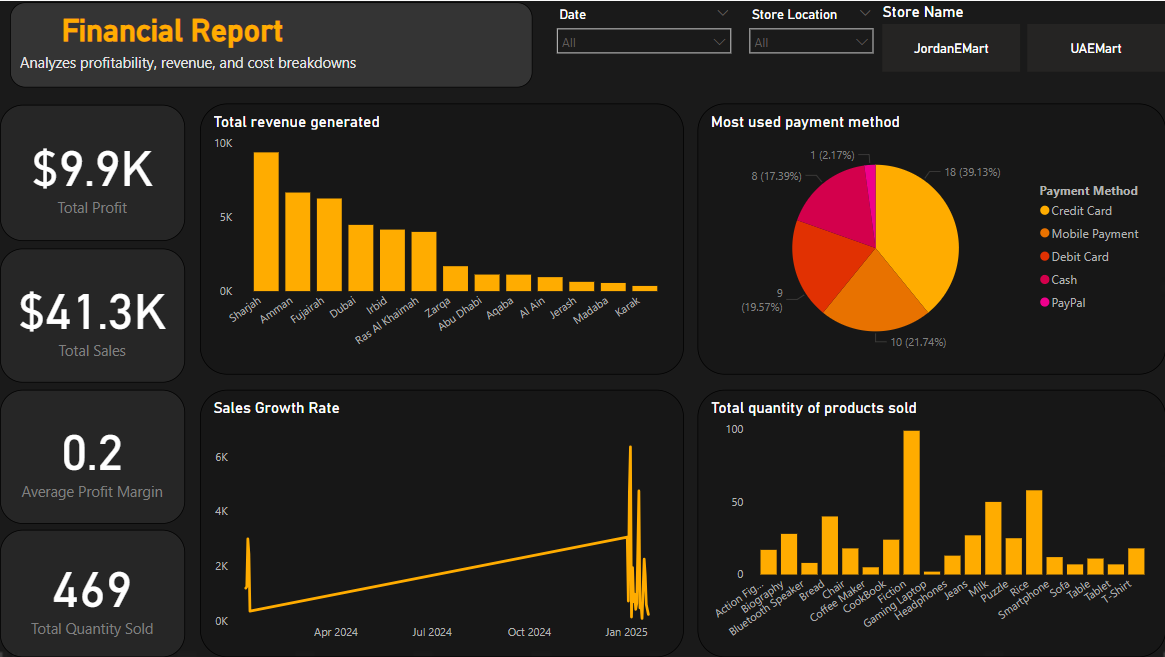

This screenshot's page, from the dashboard's own definition file:
{"tool":"powerbi","page":{"name":"Financial ","canvas":[1280,720],"ordinal":0},"visuals":[{"type":"columnChart","title":"Total revenue generated","fields":{"Y":["Sum(sales.Total Sales)"],"Category":["sales.Store Location"]},"box":[219.6,112.5,531,297.8],"z":0},{"type":"advancedSlicerVisual","fields":{"Values":["sales.tore Name"]},"box":[968.8,1.4,311.5,76.8],"z":1000},{"type":"slicer","fields":{"Values":["sales.Store Location"]},"box":[812.4,1.4,156.4,76.8],"z":2000},{"type":"slicer","fields":{"Values":["sales.Transaction Date"]},"box":[601,1.4,211.3,76.8],"z":3000},{"type":"pieChart","title":"Most used payment method","fields":{"Category":["sales.Payment Method"],"Y":["CountNonNull(sales.Transaction ID)"]},"box":[765.7,112.5,514.6,297.8],"z":4000},{"type":"lineChart","title":"Sales Growth Rate","fields":{"Y":["Sum(sales.Total Sales)"],"Category":["sales.Transaction Date.Variation.Date Hierarchy.Year","sales.Transaction Date.Variation.Date Hierarchy.Month","sales.Transaction Date.Variation.Date Hierarchy.Day"]},"box":[219.6,426.8,531,293.7],"z":5000},{"type":"clusteredColumnChart","title":"Total quantity of products sold","fields":{"Y":["Sum(sales.Quantity Sold)"],"Category":["sales.Product Name","sales.Category"]},"box":[765.7,426.8,514.6,293.7],"z":6000},{"type":"card","fields":{"Values":["Sum(sales.Total Sales)"]},"box":[0,271.7,203.1,146.8],"z":7000},{"type":"card","fields":{"Values":["Sum(sales.Quantity Sold)"]},"box":[0,580.4,203.1,140],"z":8000},{"type":"card","title":"Total profit earned","fields":{"Values":["Sum(sales.Profit)"]},"box":[0,113.9,203.1,149.6],"z":9000},{"type":"card","fields":{"Values":["Avg(sales.Profit Margin)"]},"box":[0,426.8,203.1,146.8],"z":10000},{"type":"textbox","box":[11,1.4,573.6,93.3],"z":11000}]}

Visuals, with their boxes in screenshot pixels (x1, y1, x2, y2), scaled from the page's 1280x720 canvas onto the 1165x657 screenshot:
"Total revenue generated" columnChart: <region>200, 103, 683, 374</region>
advancedSlicerVisual - sales.tore Name: <region>882, 1, 1164, 71</region>
slicer - sales.Store Location: <region>739, 1, 882, 71</region>
slicer - sales.Transaction Date: <region>547, 1, 739, 71</region>
"Most used payment method" pieChart: <region>697, 103, 1164, 374</region>
"Sales Growth Rate" lineChart: <region>200, 389, 683, 656</region>
"Total quantity of products sold" clusteredColumnChart: <region>697, 389, 1164, 656</region>
card - Sum(sales.Total Sales): <region>0, 248, 185, 382</region>
card - Sum(sales.Quantity Sold): <region>0, 530, 185, 656</region>
"Total profit earned" card: <region>0, 104, 185, 240</region>
card - Avg(sales.Profit Margin): <region>0, 389, 185, 523</region>
textbox: <region>10, 1, 532, 86</region>
